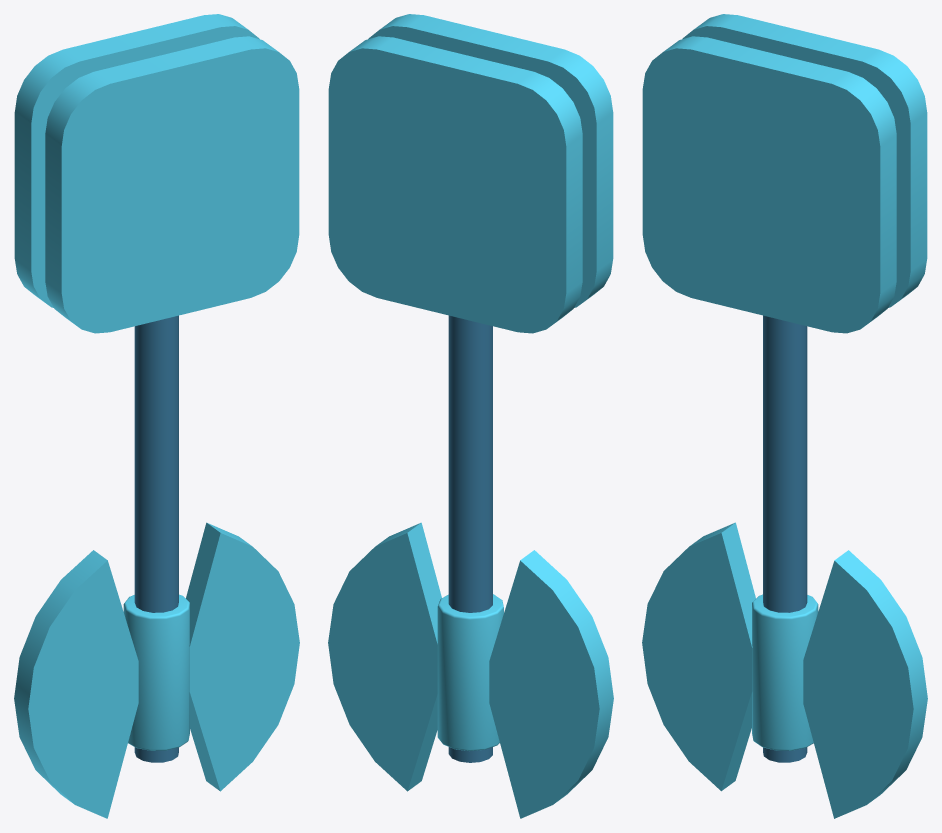
The model's file is Axe.fbx.
The picture shows the model from 3 angles, left to right: view 1: azimuth 30°, elevation 25°; view 2: azimuth 150°, elevation 25°; view 3: azimuth 330°, elevation 25°; orthographic projection.
Visible parts, largest first — view 1: Cube.009, Cylinder.019; view 2: Cube.009, Cylinder.019; view 3: Cube.009, Cylinder.019.
Part boxes in pixels (box(x1,y1,x2,y2)): Cube.009: box(14, 14, 299, 333); Cylinder.019: box(14, 315, 299, 818); Cube.009: box(328, 14, 613, 333); Cylinder.019: box(328, 315, 613, 818); Cube.009: box(642, 14, 927, 333); Cylinder.019: box(642, 315, 927, 818).
Bounding box in the file's own units: 206 × 544 × 61.6.
